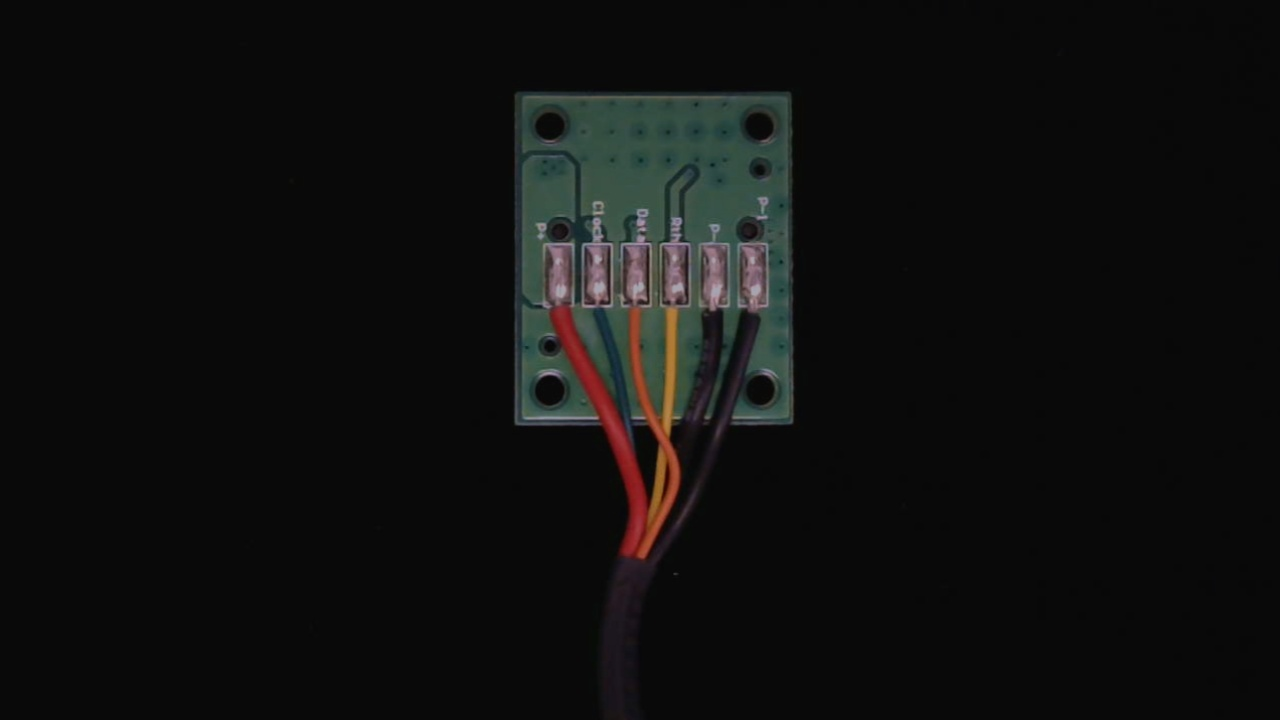Black: (697, 286, 726, 357)
Black1: (735, 290, 768, 357)
Green: (582, 290, 610, 350)
Orange: (620, 284, 652, 356)
Red: (545, 290, 576, 348)
Yellow: (657, 287, 689, 354)
